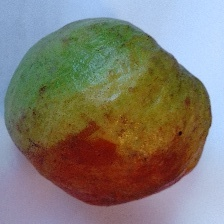guava: (15, 34, 211, 221)
